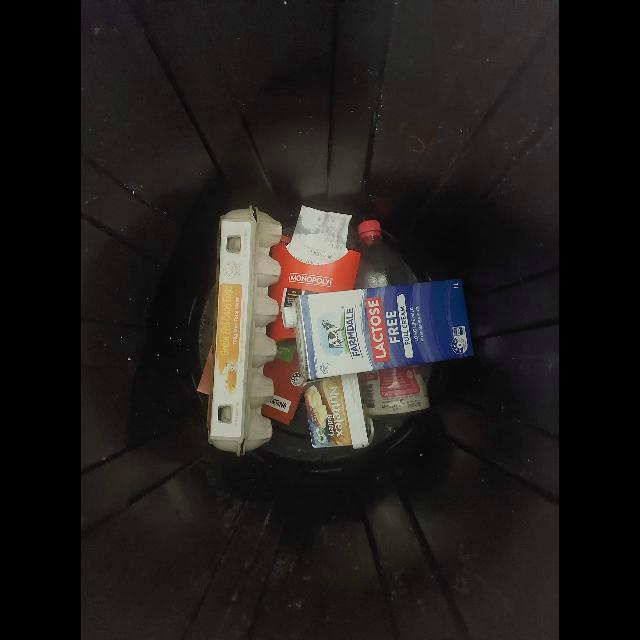plastic_bottle: (346, 220, 429, 420)
